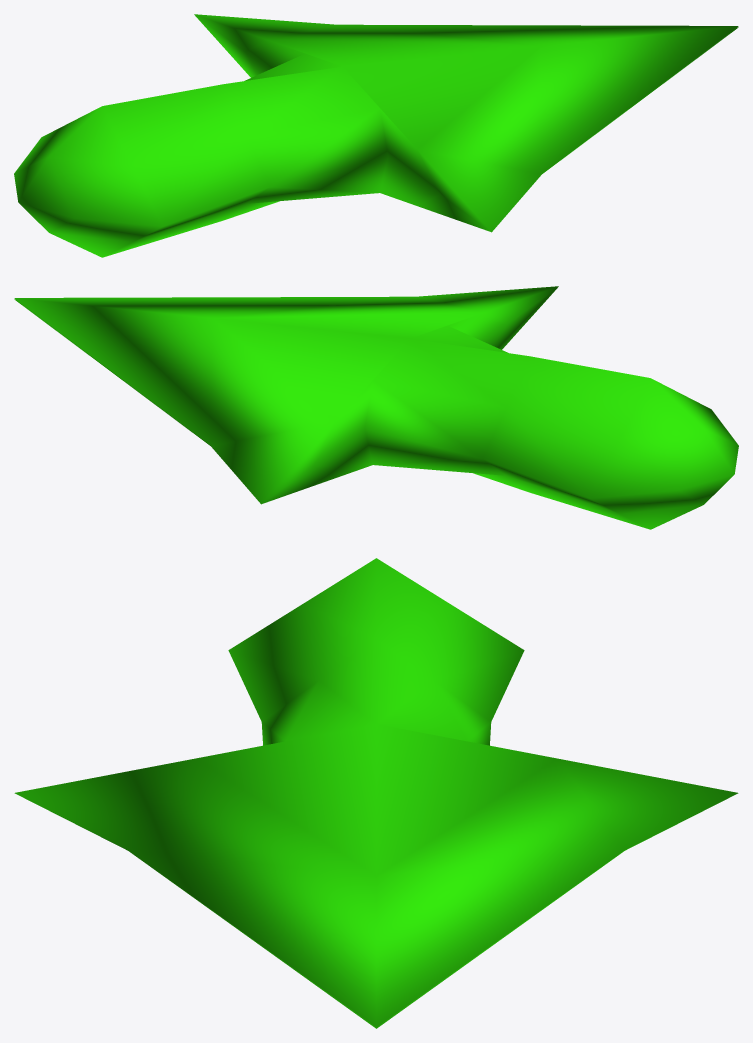
File: arrow.glb
3 renders of one model, top to bottom at view 1: azimuth 30°, elevation 25°; view 2: azimuth 150°, elevation 25°; view 3: azimuth 270°, elevation 25°, orthographic. The views are drawn at different scales.
Visible parts, largest first — view 1: Cube; view 2: Cube; view 3: Cube.
Part boxes in pixels (x1=…): Cube: x1=14, y1=14, x2=738, y2=257; Cube: x1=14, y1=286, x2=738, y2=529; Cube: x1=14, y1=558, x2=738, y2=1028.
Bounding box in the file's own units: 3.95 × 0.794 × 2.83.
